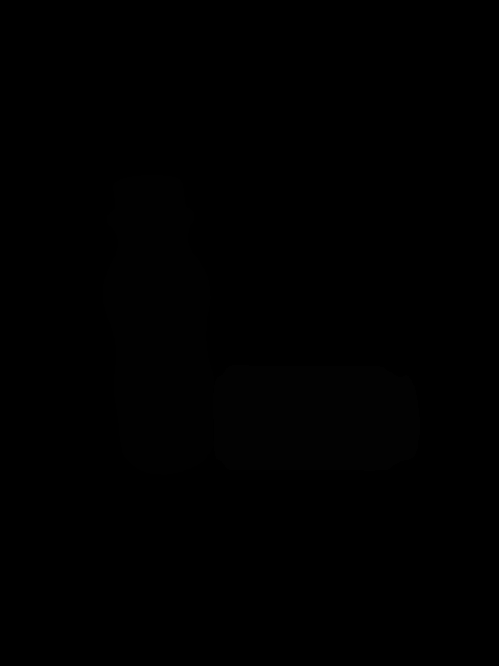can: (209, 363, 423, 474)
milk_bottle: (101, 171, 219, 478)
